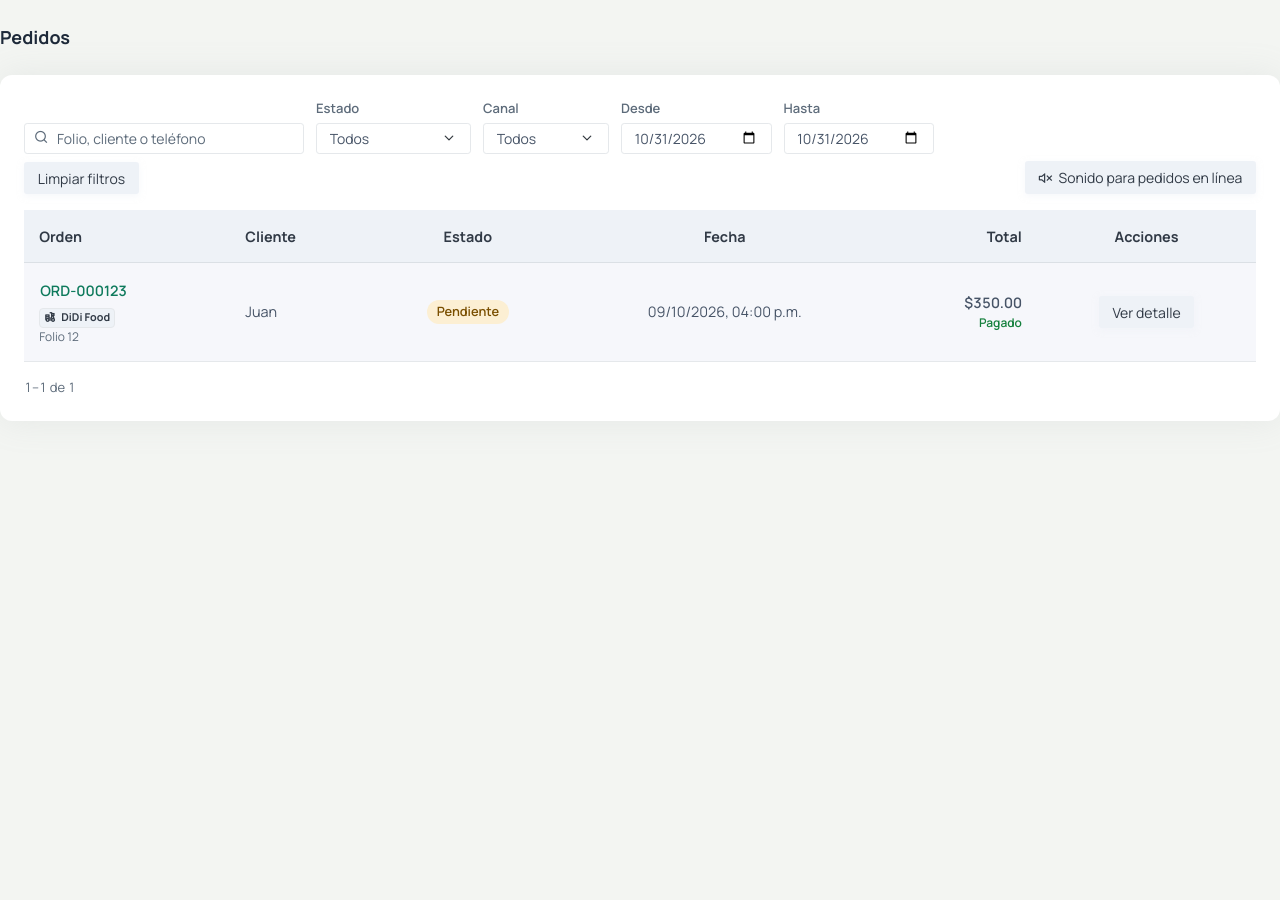
Test case: OrdersList › says the business charged an order the courier paid
Click the button "ORD-000123" at coordinates (83, 291), box [39,279,128,302]
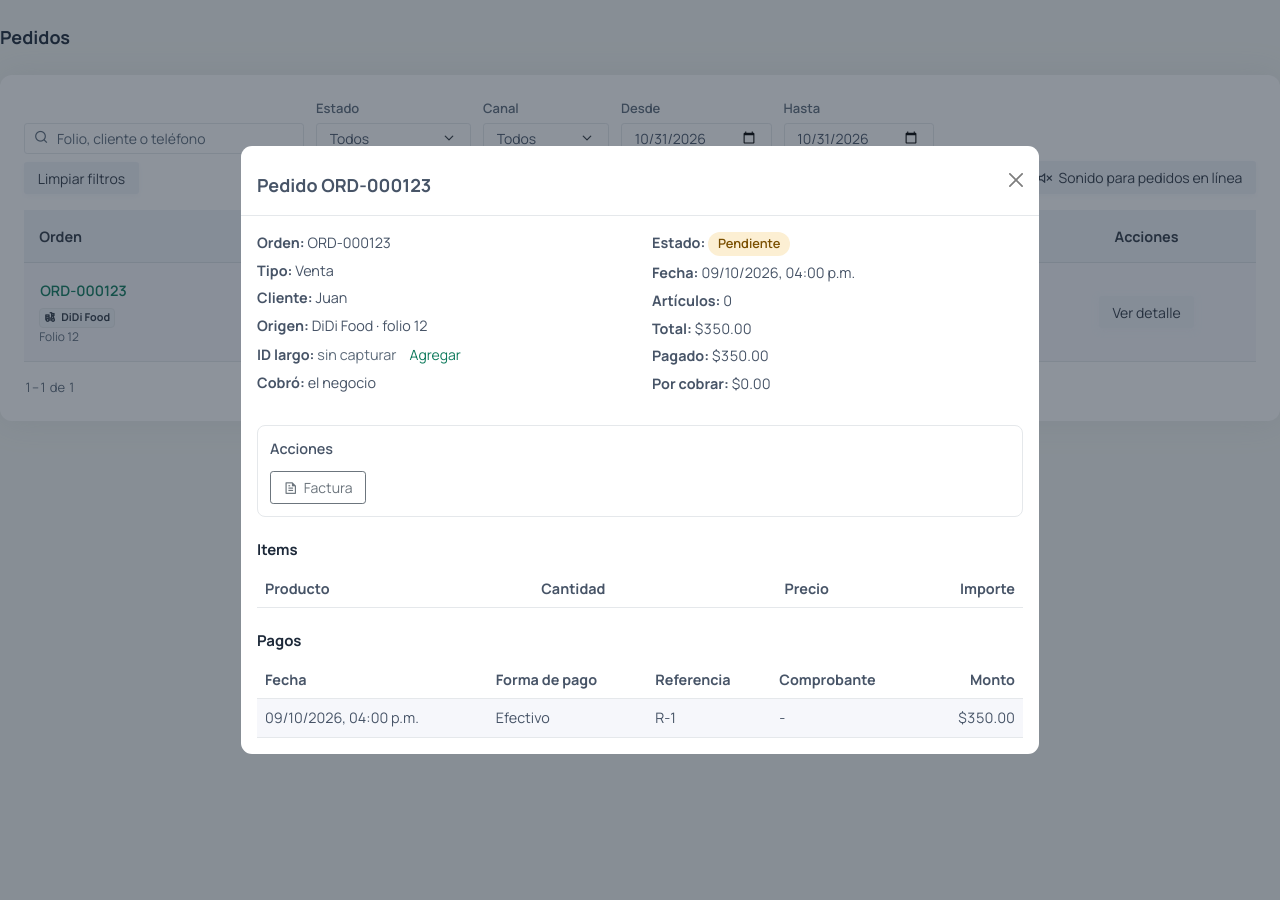
Check: the dialog "Pedido ORD-000123" shows "Origen: DiDi Food · folio 12", box [240,145,1040,755]
Check: the dialog "Pedido ORD-000123" shows "Cobró: el negocio", box [240,145,1040,755]
Check: the cell "Efectivo" is shown, box [488,699,647,737]
